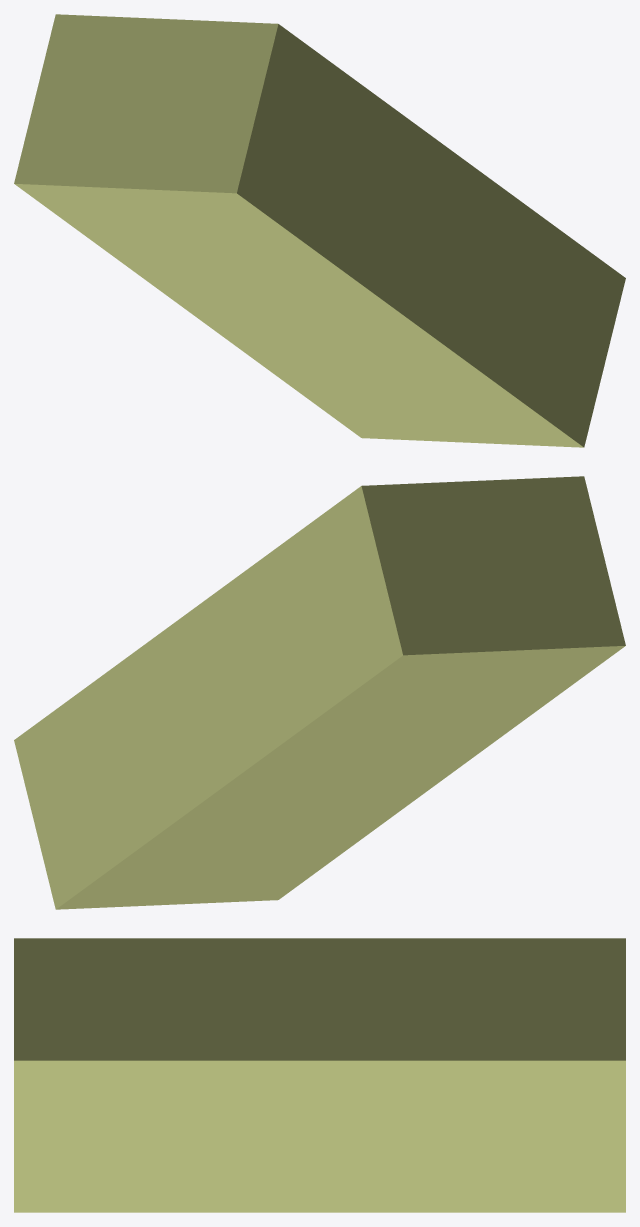
The picture shows the model from 3 angles, top to bottom: view 1: azimuth 30°, elevation 25°; view 2: azimuth 150°, elevation 25°; view 3: azimuth 270°, elevation 25°; orthographic projection. The views are drawn at different scales.
Parts seen in each view (by area): view 1: 0_1_3_2_1_2_3_1_3_3_1_1_1; view 2: 0_1_3_2_1_2_3_1_3_3_1_1_1; view 3: 0_1_3_2_1_2_3_1_3_3_1_1_1.
Part boxes in pixels (x1,y1,x2,y2): 0_1_3_2_1_2_3_1_3_3_1_1_1: (14, 14, 625, 447); 0_1_3_2_1_2_3_1_3_3_1_1_1: (14, 476, 625, 909); 0_1_3_2_1_2_3_1_3_3_1_1_1: (14, 938, 625, 1212).
Size of the model in its own units: 2.64 by 2.13 by 6.
